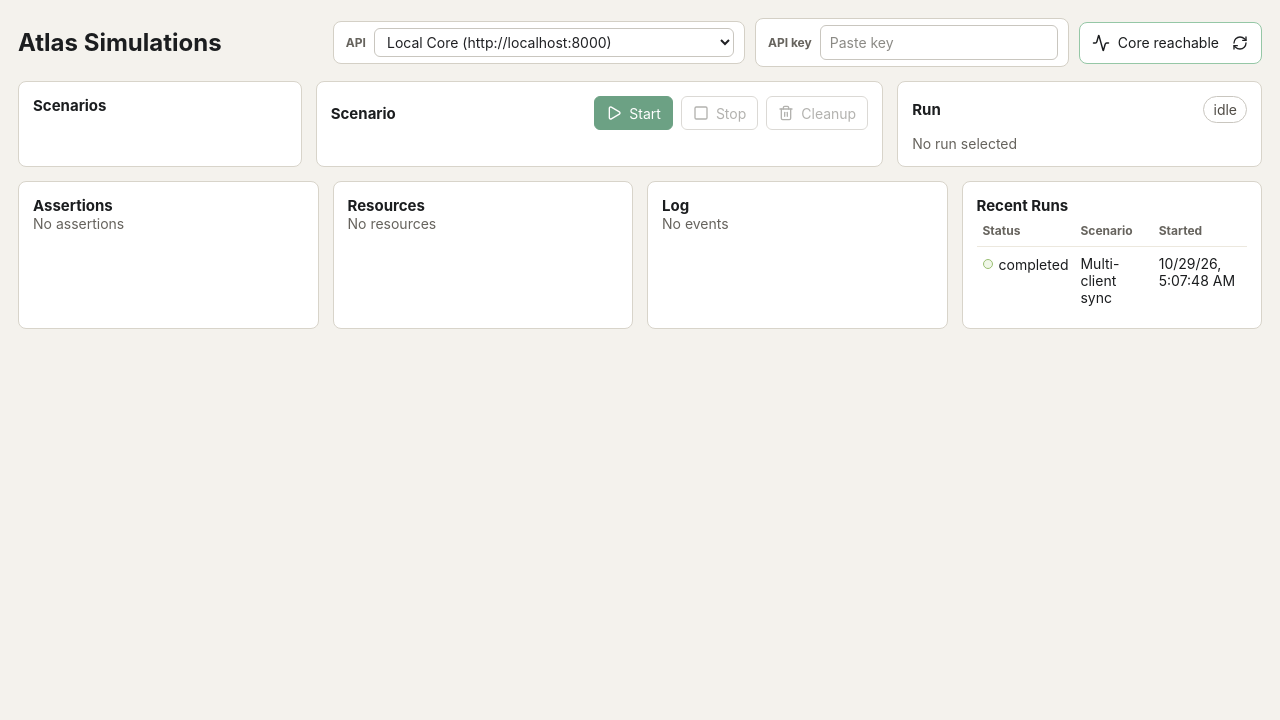
Test: App run lifecycle › preserves a run selection made before scenarios finish loading
Click the button "Multi-client sync". click: coordinates (1114, 280)
box: [1080,255,1147,306]
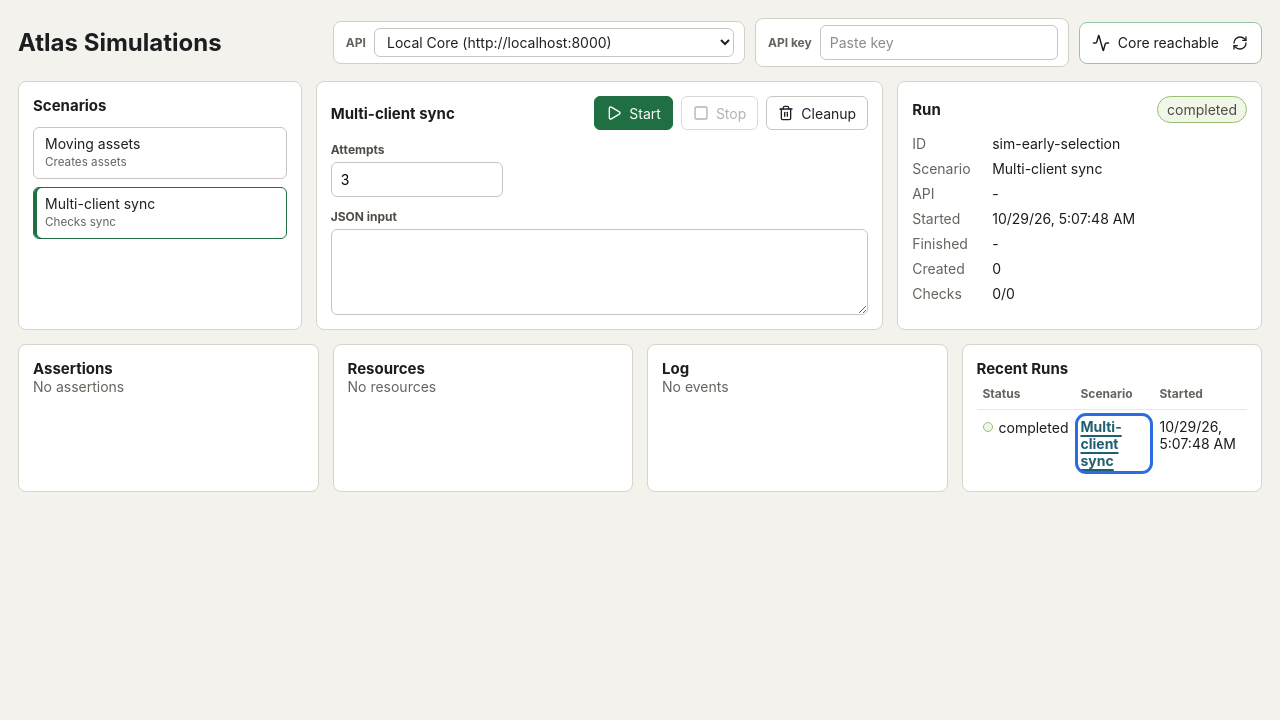
Now the number field labelled "Attempts" holds "3", box [331,162,503,197]
